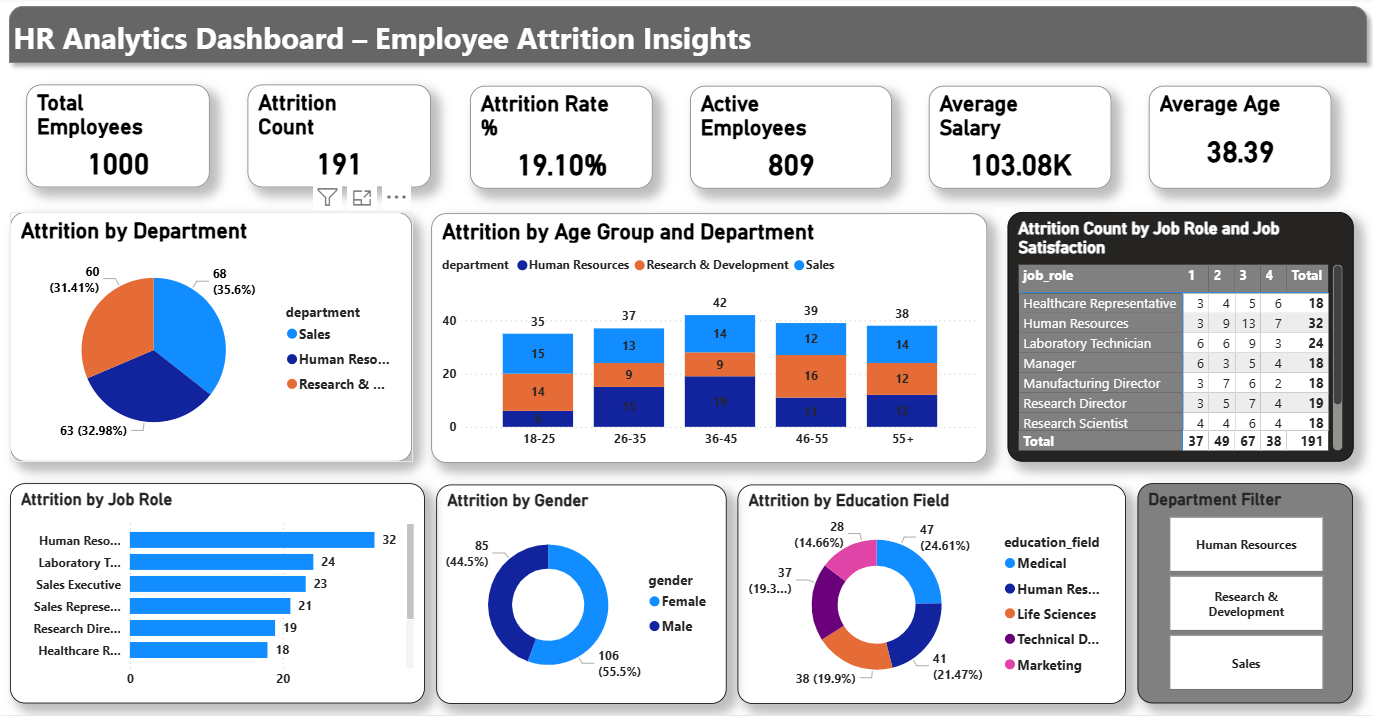

Layout of this report page (visuals, bound fields, positions):
{"tool":"powerbi","page":{"name":"Page 1","canvas":[1380,720],"ordinal":0},"visuals":[{"type":"card","title":"Total Employees","fields":{"Values":["hr_analytics employees.Total Employees"]},"box":[26.5,88.2,183.8,102.9],"z":0},{"type":"card","title":"Attrition Count","fields":{"Values":["Sum(hr_analytics employees.Attrition Count)"]},"box":[248.5,88.2,183.8,102.9],"z":1000},{"type":"card","title":"Attrition Rate %","fields":{"Values":["hr_analytics employees.Attrition Rate"]},"box":[470.9,88.7,183.6,102.8],"z":2000},{"type":"card","title":"Active Employees","fields":{"Values":["hr_analytics employees.Active Employees"]},"box":[691.8,88.7,202.7,102.8],"z":3000},{"type":"card","title":"Average Salary","fields":{"Values":["hr_analytics employees.Avg Monthly Salary"]},"box":[931.7,88.7,183.6,102.8],"z":4000},{"type":"card","title":"Average Age","fields":{"Values":["hr_analytics employees.Average Age"]},"box":[1152.6,88.7,183.6,102.8],"z":5000},{"type":"pieChart","title":"Attrition by Department","fields":{"Category":["hr_analytics employees.department"],"Y":["Sum(hr_analytics employees.Attrition Count)"]},"box":[10.3,216.1,402.9,250],"z":6000},{"type":"columnChart","title":"Attrition by Age Group and Department","fields":{"Category":["hr_analytics employees.cf_age_band"],"Y":["Sum(hr_analytics employees.Attrition Count)"],"Series":["hr_analytics employees.department"]},"box":[432.4,216.7,557.2,250],"z":7000},{"type":"donutChart","title":"Attrition by Education Field","fields":{"Category":["hr_analytics employees.education_field"],"Y":["Sum(hr_analytics employees.Attrition Count)"]},"box":[740,488.7,389.6,220],"z":9000},{"type":"donutChart","title":"Attrition by Gender","fields":{"Y":["Sum(hr_analytics employees.Attrition Count)"],"Category":["hr_analytics employees.gender"]},"box":[437.7,488.7,291.1,220],"z":10000},{"type":"pivotTable","title":"Attrition Count by Job Role and Job Satisfaction","fields":{"Rows":["hr_analytics employees.job_role"],"Columns":["hr_analytics employees.job_satisfaction"],"Values":["Sum(hr_analytics employees.Attrition Count)"]},"box":[1010.1,216.1,347,250],"z":11000},{"type":"clusteredBarChart","title":"Attrition by Job Role","fields":{"Category":["hr_analytics employees.job_role"],"Y":["Sum(hr_analytics employees.Attrition Count)"]},"box":[10.3,488.1,416.1,220.5],"z":12000},{"type":"slicer","title":"Department Filter","fields":{"Values":["hr_analytics employees.department"]},"box":[1140.9,488.1,216.1,220.5],"z":13000},{"type":"shape","box":[0,0,1380.2,75.3],"z":14000}]}

Visuals, with their boxes in screenshot pixels (x1, y1, x2, y2), scaled from the page's 1380x720 canvas onto the 1373x716 screenshot:
"Total Employees" card: [26, 88, 209, 190]
"Attrition Count" card: [247, 88, 430, 190]
"Attrition Rate %" card: [469, 88, 651, 190]
"Active Employees" card: [688, 88, 890, 190]
"Average Salary" card: [927, 88, 1110, 190]
"Average Age" card: [1147, 88, 1329, 190]
"Attrition by Department" pieChart: [10, 215, 411, 464]
"Attrition by Age Group and Department" columnChart: [430, 215, 985, 464]
"Attrition by Education Field" donutChart: [736, 486, 1124, 705]
"Attrition by Gender" donutChart: [435, 486, 725, 705]
"Attrition Count by Job Role and Job Satisfaction" pivotTable: [1005, 215, 1350, 464]
"Attrition by Job Role" clusteredBarChart: [10, 485, 424, 705]
"Department Filter" slicer: [1135, 485, 1350, 705]
shape: [0, 0, 1372, 75]
